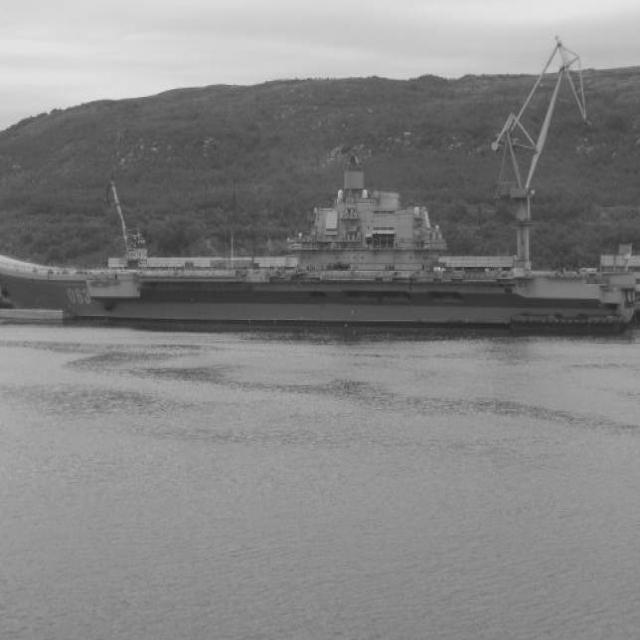Portanaves: (1, 149, 640, 327)
